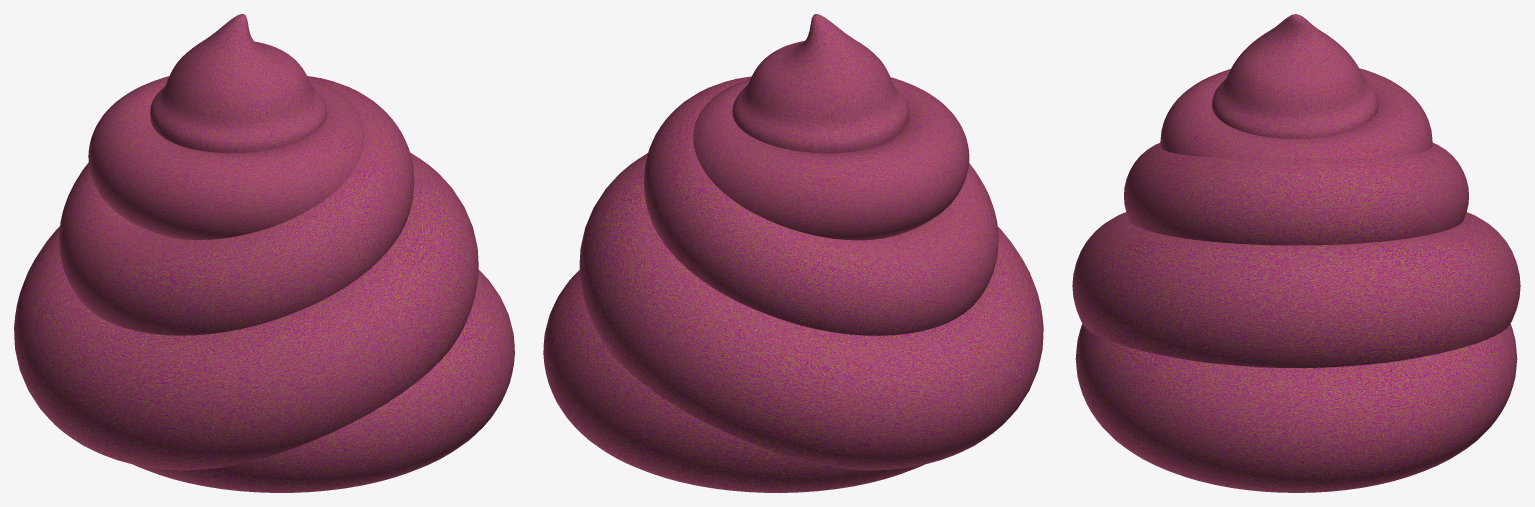
The model's file is poop.glb.
3 views of the same model, side by side, from view 1: azimuth 30°, elevation 25°; view 2: azimuth 150°, elevation 25°; view 3: azimuth 270°, elevation 25° (orthographic). The views are drawn at different scales.
Visible parts, largest first — view 1: Poop; view 2: Poop; view 3: Poop.
Boxes of the visible parts, x1=… form: Poop: x1=14, y1=14, x2=514, y2=492; Poop: x1=543, y1=14, x2=1043, y2=492; Poop: x1=1072, y1=14, x2=1520, y2=492.
Size of the model in its own units: 2.41 by 2.18 by 2.27.
Materials: 1 (1 with a texture image).
